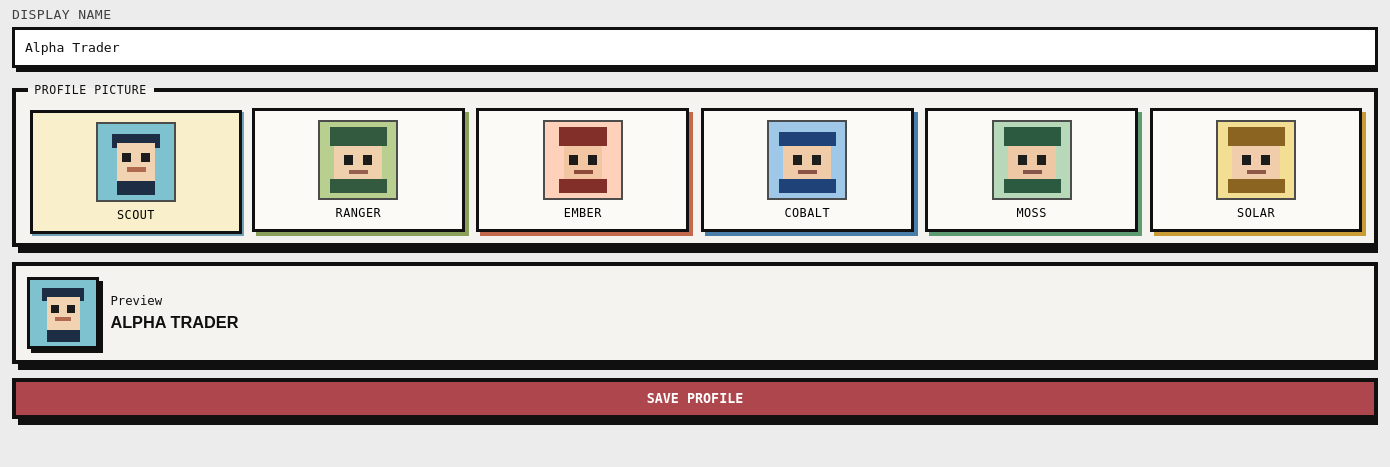
Test: ProfileEditor › surfaces metadata sync failures after the profile row is saved
Click the button "Save profile" at coordinates (695, 399), box [12, 378, 1378, 419]
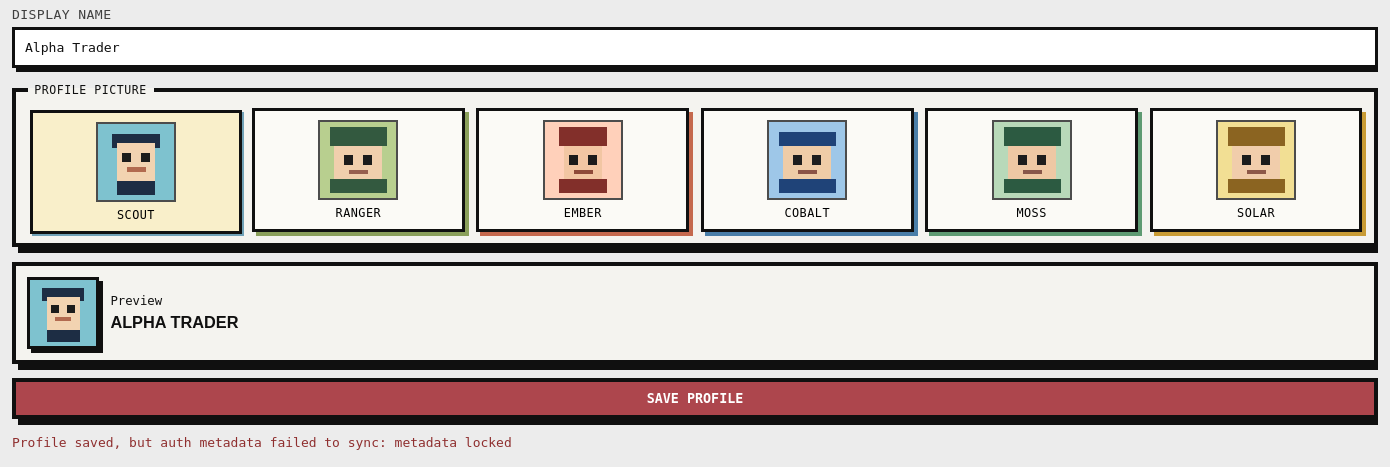
Check: the text "Profile saved, but auth metadata failed to sync: metadata locked" is shown, box [12, 435, 512, 450]
